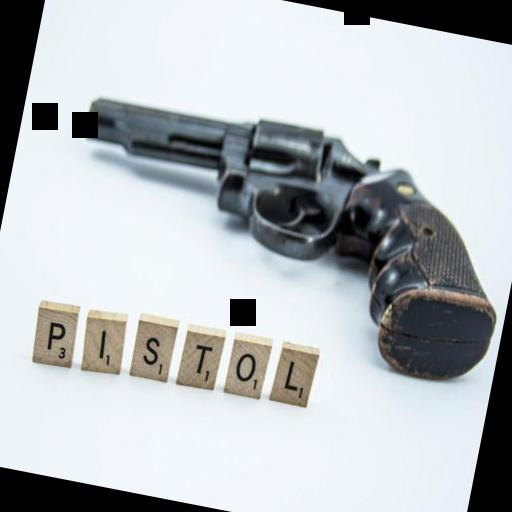Handgun: (44, 77, 512, 399)
